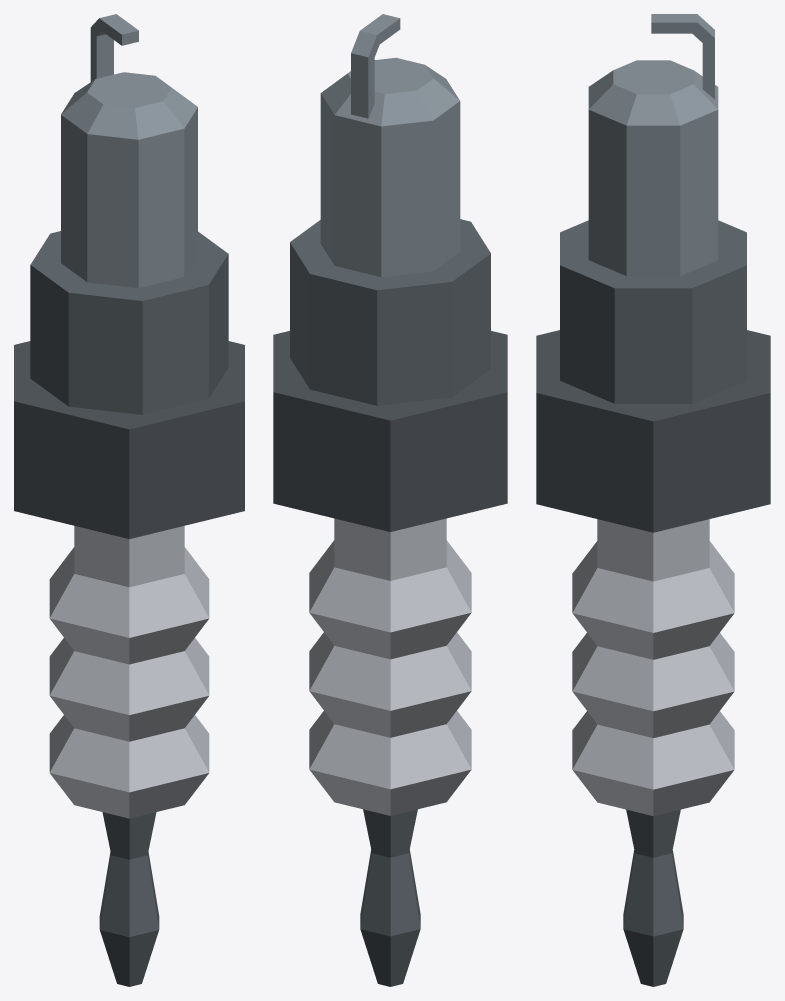
Rendered from SM_Prop_SparkPlug_01.fbx.
3 renders of one model, left to right at view 1: azimuth 30°, elevation 25°; view 2: azimuth 150°, elevation 25°; view 3: azimuth 270°, elevation 25°, orthographic.
Parts seen in each view (by area): view 1: SM_Prop_SparkPlug_01; view 2: SM_Prop_SparkPlug_01; view 3: SM_Prop_SparkPlug_01.
Boxes of the visible parts, x1,y1,x2,y2 form: SM_Prop_SparkPlug_01: [14, 14, 244, 986]; SM_Prop_SparkPlug_01: [273, 14, 507, 986]; SM_Prop_SparkPlug_01: [536, 14, 770, 986].
Bounding box in the file's own units: 7.25 × 28.48 × 6.28.
